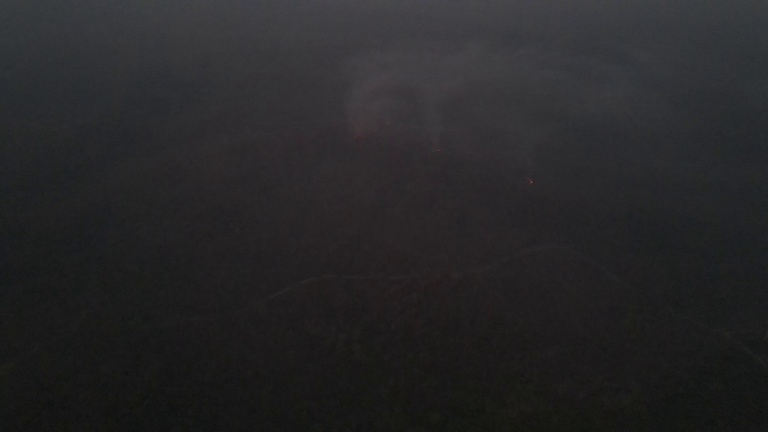fire: (526, 177, 537, 186), (434, 146, 443, 157), (382, 119, 392, 128), (349, 134, 358, 143)
smoke: (343, 44, 559, 171)
